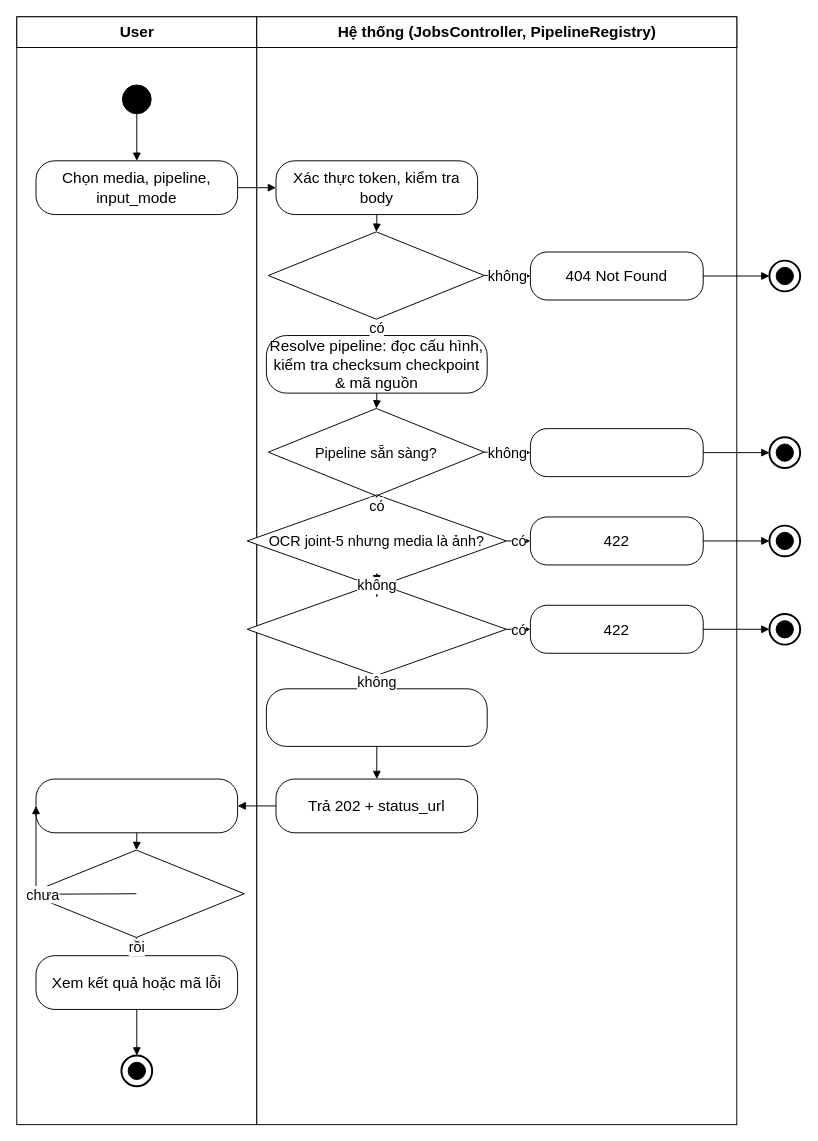
Some shapes in this 818 by 1141 pixel diagram are drawn without their labels. Each missing label, with the box of its shape:
503 Service Unavailable: (529, 428, 703, 477)
BEGIN; khóa media; INSERT job (queued) + pipeline_snapshot; COMMIT: (265, 688, 487, 746)
Job đã kết thúc?: (27, 849, 244, 937)
Media tồn tại và thuộc quyền?: (267, 231, 484, 319)
Poll trạng thái job (~2 giây/lần): (35, 778, 238, 833)
Video nhưng input_mode ≠ scene?: (246, 582, 506, 675)
